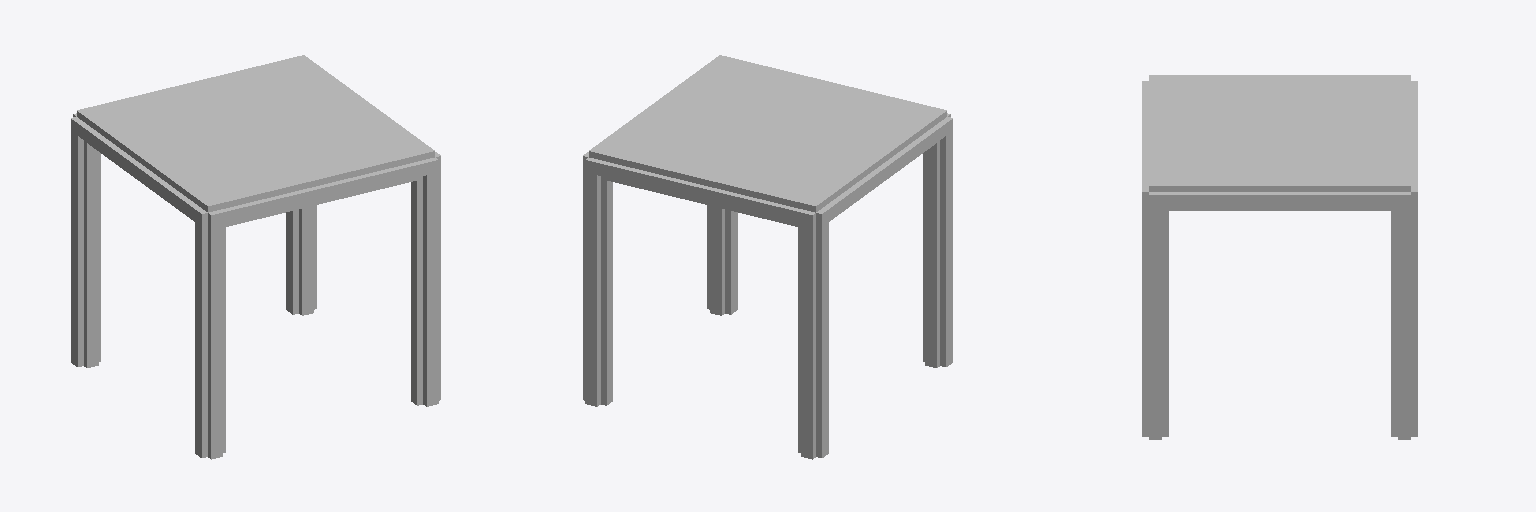
The model's file is stool.obj.
The picture shows the model from 3 angles: view 1: azimuth 30°, elevation 25°; view 2: azimuth 150°, elevation 25°; view 3: azimuth 270°, elevation 25°; orthographic projection.
Visible parts, largest first — view 1: object 1; view 2: object 1; view 3: object 1.
Part boxes in pixels (bbox=[...]): object 1: bbox=[71, 55, 440, 459]; object 1: bbox=[583, 55, 952, 459]; object 1: bbox=[1142, 75, 1417, 439].
Size of the model in its own units: 4 by 4 by 4.